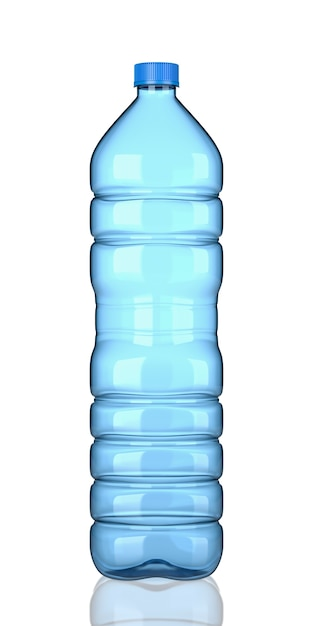plastic_bottle: (72, 57, 242, 584)
